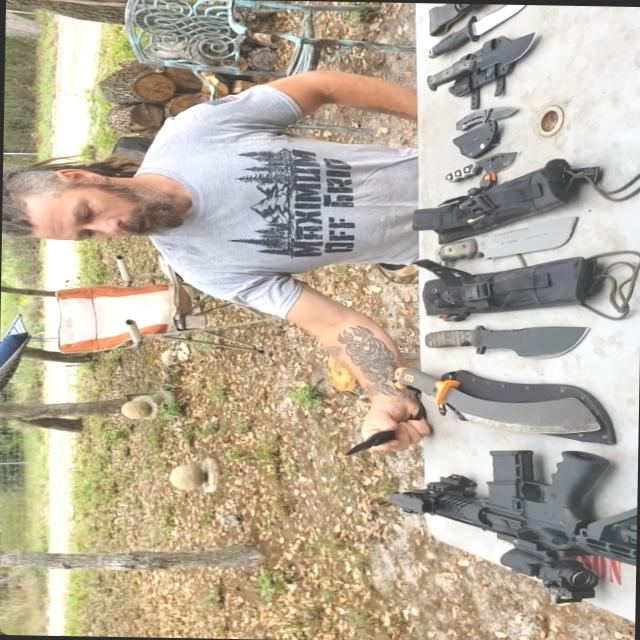knife: (367, 363, 606, 438), (372, 20, 549, 96), (388, 312, 602, 364), (421, 202, 578, 266), (422, 2, 530, 62), (422, 145, 530, 197), (441, 90, 544, 134), (328, 424, 418, 459)
long weapon: (337, 422, 637, 612)
